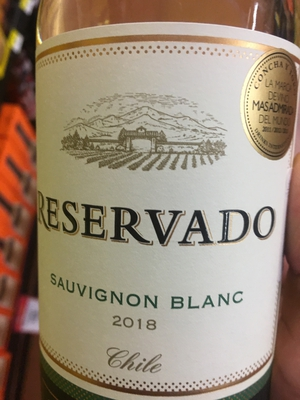reservado sauvignon blanc: (31, 10, 286, 400)
